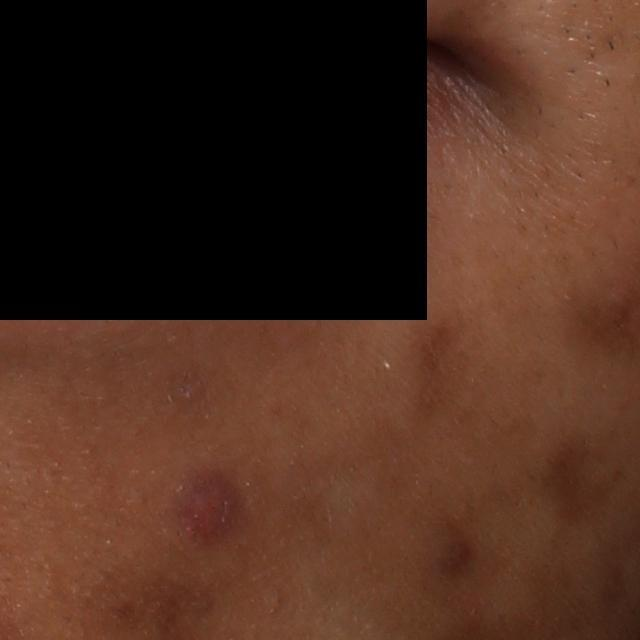papule: (170, 472, 246, 549)
